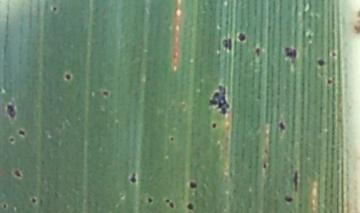tarspot: (210, 84, 230, 116), (283, 45, 298, 62), (220, 37, 232, 52), (6, 102, 17, 118), (292, 168, 299, 193), (128, 169, 137, 184), (236, 31, 247, 42), (12, 168, 22, 178), (316, 57, 326, 67), (188, 179, 197, 189), (63, 72, 72, 81), (100, 88, 110, 96), (185, 202, 195, 210), (278, 121, 286, 131), (325, 75, 333, 85), (283, 195, 294, 202), (17, 128, 26, 136), (209, 119, 217, 128), (146, 194, 153, 204), (260, 161, 268, 169), (30, 195, 37, 204), (1, 201, 8, 209), (168, 134, 175, 142), (255, 45, 260, 56), (169, 200, 175, 209), (329, 51, 338, 57), (51, 5, 58, 12), (8, 135, 14, 143), (163, 197, 170, 203)
